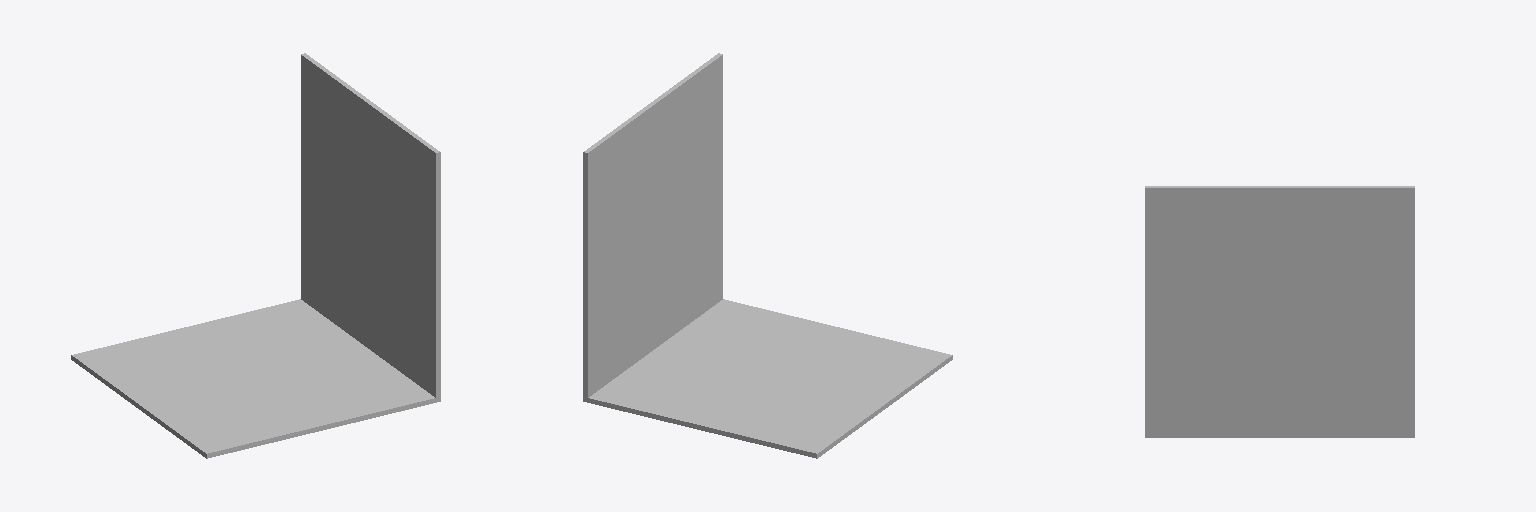
Rendered from TileSide.obj.
3 renders of one model, left to right at view 1: azimuth 30°, elevation 25°; view 2: azimuth 150°, elevation 25°; view 3: azimuth 270°, elevation 25°, orthographic.
Visible parts, largest first — view 1: Tile_copy9, Tile; view 2: Tile_copy9, Tile; view 3: Tile_copy9, Tile.
Part boxes in pixels (x1,y1,x2,y2): Tile_copy9: (301,53,440,397); Tile: (71,299,440,458); Tile_copy9: (583,53,722,397); Tile: (583,299,952,458); Tile_copy9: (1145,186,1414,432); Tile: (1145,433,1414,437).
Size of the model in its own units: 5 by 5.1 by 5.